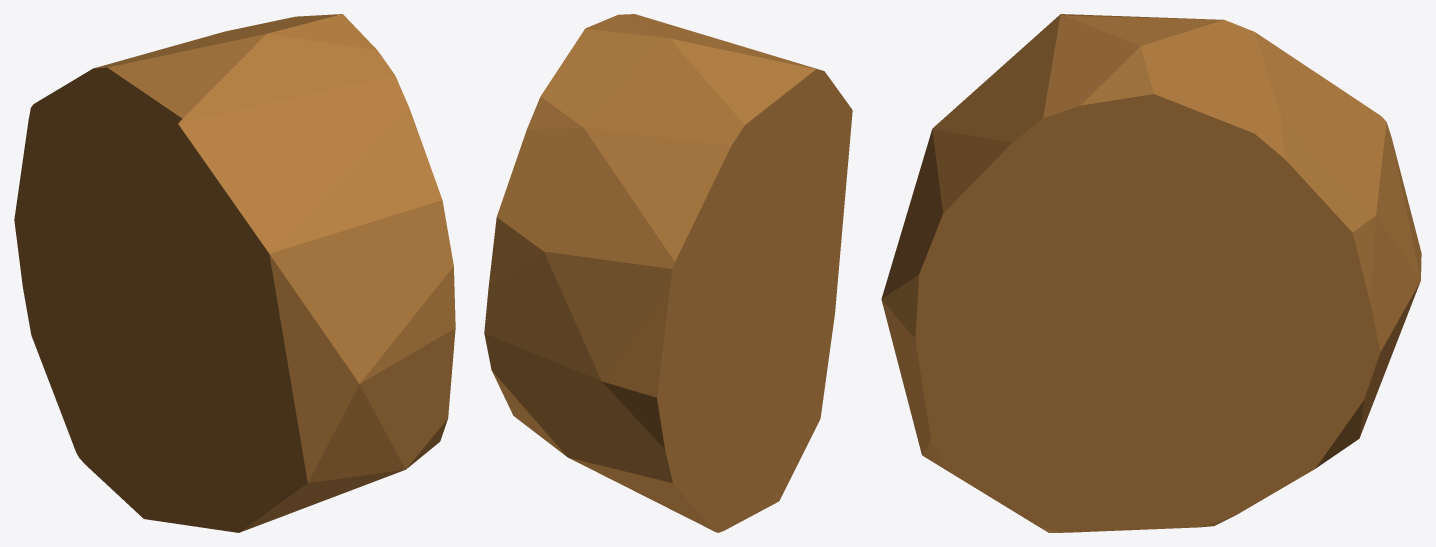
File: potato_cut.glb
3 views of the same model, side by side, from view 1: azimuth 30°, elevation 25°; view 2: azimuth 150°, elevation 25°; view 3: azimuth 270°, elevation 25° (orthographic). The views are drawn at different scales.
Parts seen in each view (by area): view 1: potato_cut; view 2: potato_cut; view 3: potato_cut.
Boxes of the visible parts, box(x1,y1,x2,y2) form: potato_cut: box(14, 14, 455, 532); potato_cut: box(484, 14, 852, 532); potato_cut: box(881, 14, 1421, 532).
Bounding box in the file's own units: 0.1315 × 0.2782 × 0.2779.
